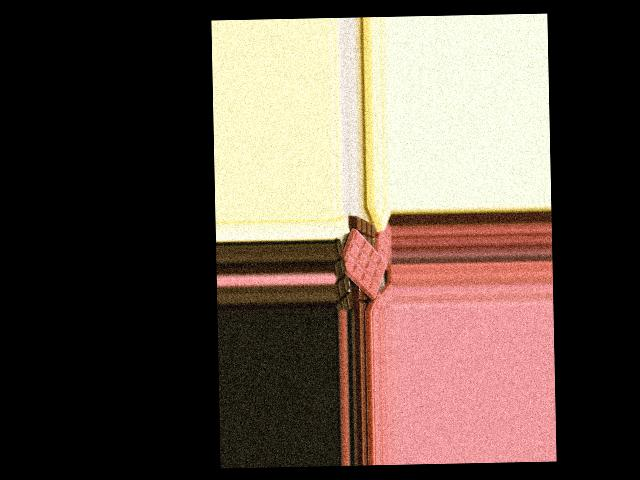chocolate: (332, 229, 389, 300)
